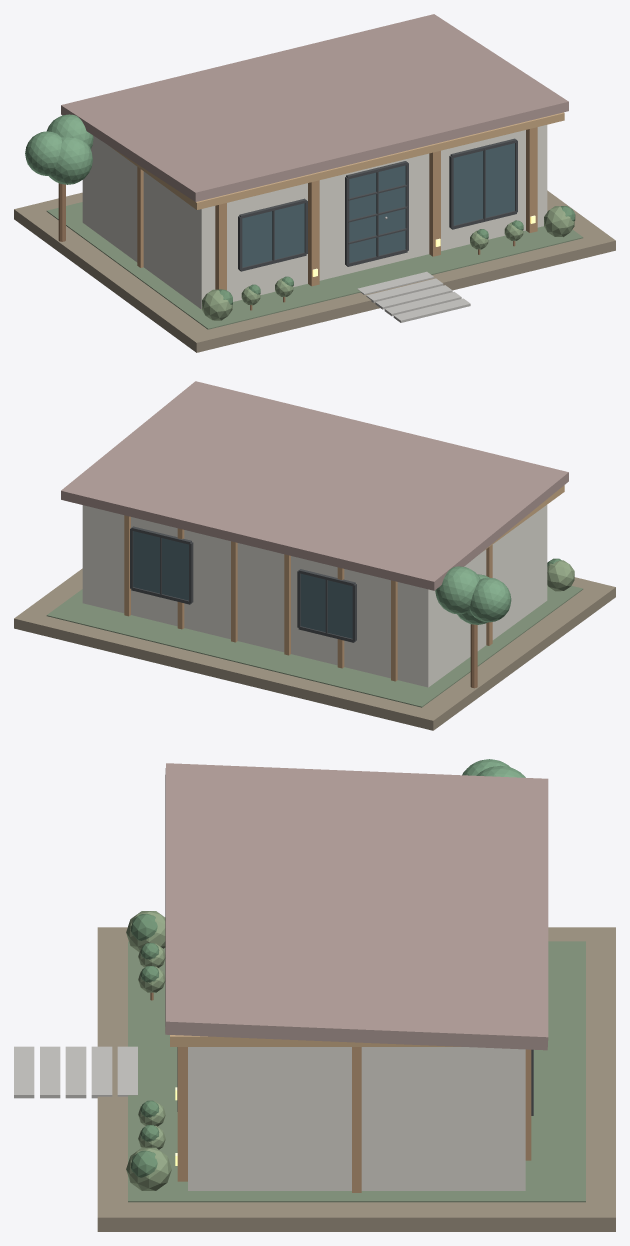
The model's file is modelo-3d-aproximado.glb.
3 renders of one model, top to bottom at view 1: azimuth 30°, elevation 25°; view 2: azimuth 150°, elevation 25°; view 3: azimuth 270°, elevation 25°, orthographic. The views are drawn at different scales.
Parts seen in each view (by area): view 1: taupe, cream, soil, glazing, grass, wood2, black, woodlight, foliage, concrete, green, hedge (+1 smaller); view 2: taupe, cream, soil, grass, glazing, wood2, foliage, black, green, wood; view 3: taupe, cream, soil, grass, concrete, wood2, green, hedge, woodlight, foliage.
Boxes of the visible parts, bbox=[...] form: taupe: bbox=[61, 14, 568, 201]; cream: bbox=[82, 125, 547, 309]; soil: bbox=[14, 190, 615, 352]; glazing: bbox=[242, 143, 514, 267]; grass: bbox=[46, 202, 583, 329]; wood2: bbox=[137, 127, 537, 290]; black: bbox=[238, 138, 517, 271]; woodlight: bbox=[110, 112, 564, 209]; foliage: bbox=[25, 114, 93, 184]; concrete: bbox=[357, 271, 470, 322]; green: bbox=[202, 206, 574, 320]; hedge: bbox=[218, 206, 575, 304]; taupe: bbox=[61, 381, 568, 590]; cream: bbox=[82, 505, 547, 687]; soil: bbox=[14, 568, 615, 730]; grass: bbox=[46, 585, 583, 707]; glazing: bbox=[133, 531, 352, 638]; wood2: bbox=[124, 515, 492, 681]; foliage: bbox=[435, 566, 511, 624]; black: bbox=[130, 526, 356, 642]; green: bbox=[547, 560, 574, 591]; wood: bbox=[470, 624, 477, 688]; taupe: bbox=[165, 763, 548, 1050]; cream: bbox=[188, 1047, 525, 1190]; soil: bbox=[97, 927, 615, 1231]; grass: bbox=[128, 941, 585, 1202]; concrete: bbox=[14, 1046, 137, 1098]; wood2: bbox=[177, 1047, 531, 1192]; green: bbox=[126, 911, 171, 1190]; hedge: bbox=[130, 914, 159, 1177]; woodlight: bbox=[170, 1035, 460, 1046]; foliage: bbox=[462, 759, 525, 777].
Size of the model in its own units: 12.23 by 3.56 by 9.99.
